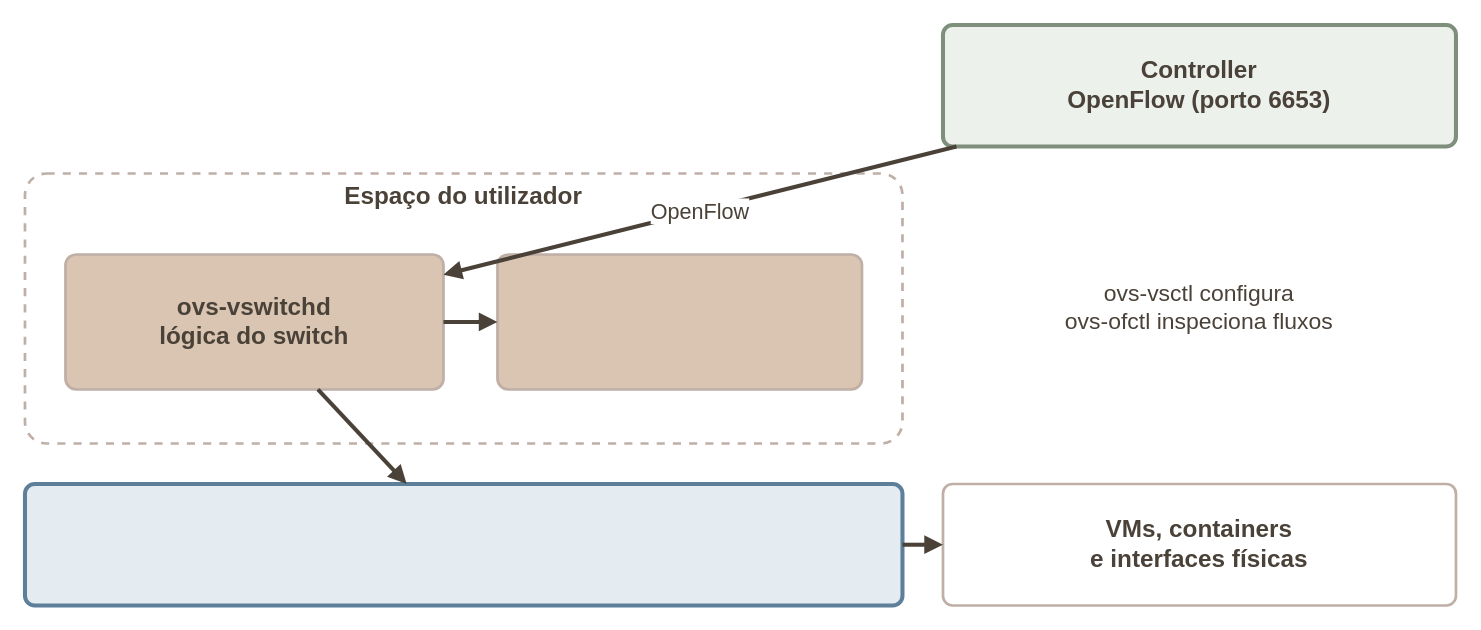
Some shapes in this 1481 by 630 pixel diagram are drawn without their labels. The centre of each missing label's shape, as x and y in pixels:
"Datapath no núcleo (caminho rápido) tabela de fluxos em cache" goes at (x=463, y=544).
"ovsdb-server configuração" goes at (x=679, y=321).
